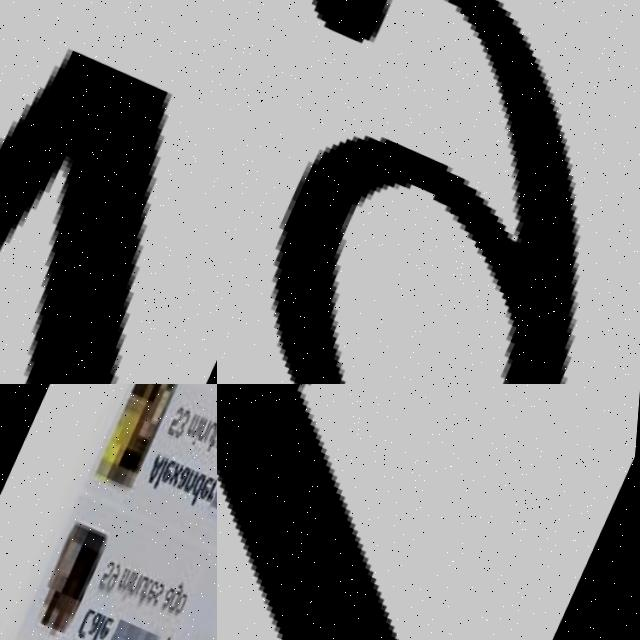1: (167, 400, 188, 437), (102, 559, 119, 589)
5: (108, 560, 128, 594)
9: (217, 0, 640, 384)
A: (146, 451, 169, 486), (175, 459, 196, 491), (91, 610, 108, 638), (164, 582, 180, 610)
C: (79, 606, 100, 640)
D: (188, 469, 209, 506)
E: (99, 612, 120, 640), (198, 470, 217, 499), (149, 578, 165, 602), (162, 456, 178, 480)
G: (170, 576, 191, 613)
I: (192, 414, 208, 447), (125, 569, 140, 602)
K: (217, 384, 640, 640)
L: (157, 457, 170, 489), (94, 613, 109, 640)
M: (186, 412, 204, 437), (120, 566, 138, 590)
N: (184, 465, 202, 493), (132, 567, 148, 595), (198, 415, 213, 439)
O: (176, 588, 193, 616)
R: (207, 475, 217, 502)
S: (155, 579, 171, 606)
T: (140, 574, 159, 608), (208, 418, 217, 448)
U: (138, 572, 154, 596), (204, 418, 217, 441)
W: (0, 0, 217, 384)
X: (168, 456, 188, 488)
Y: (159, 631, 179, 640)
